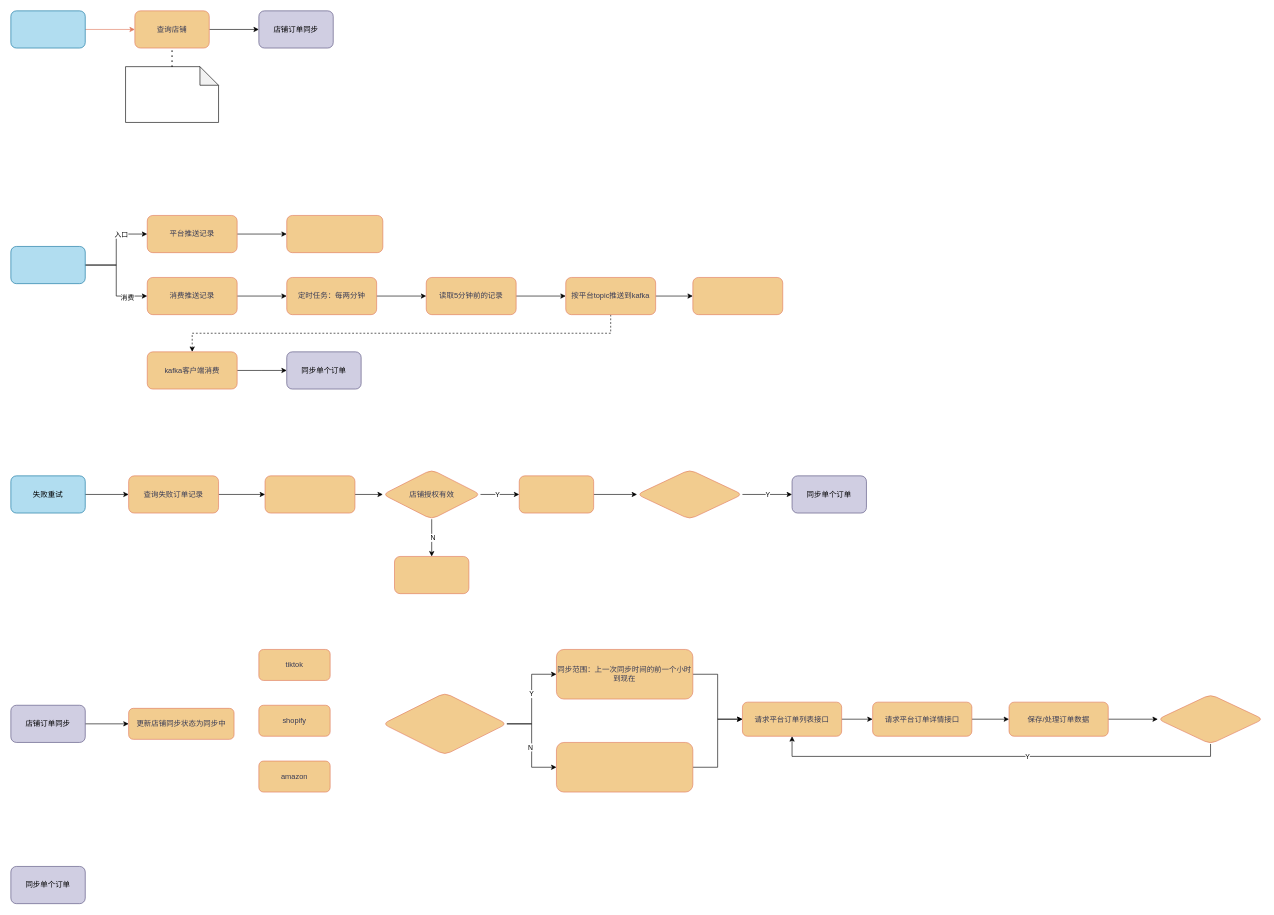
Some shapes in this 1274 by 915 pixel diagram are drawn without their labels. Each missing label, with the centre of its shape:
"webhook" goes at point 47,265.
"分平台保存至不同的记录表" goes at point 334,234.
"列表响应中是否存在下一页" goes at point 1210,719.
"删除webhook记录" goes at point 737,296.
"同步范围：一个月前到现在" goes at point 624,767.
"定时任务：每小时" goes at point 47,29.
"店铺最后同步订单时间不为空" goes at point 444,723.
"授权成功 & 不是正在同步中 + 两小时内失败过的店铺" goes at point 172,94.
"移除该店铺所有失败记录" goes at point 431,575.
"获取店铺" goes at point 309,494.
"订单失败次数 < 3" goes at point 689,494.
"遍历订单记录" goes at point 556,494.
